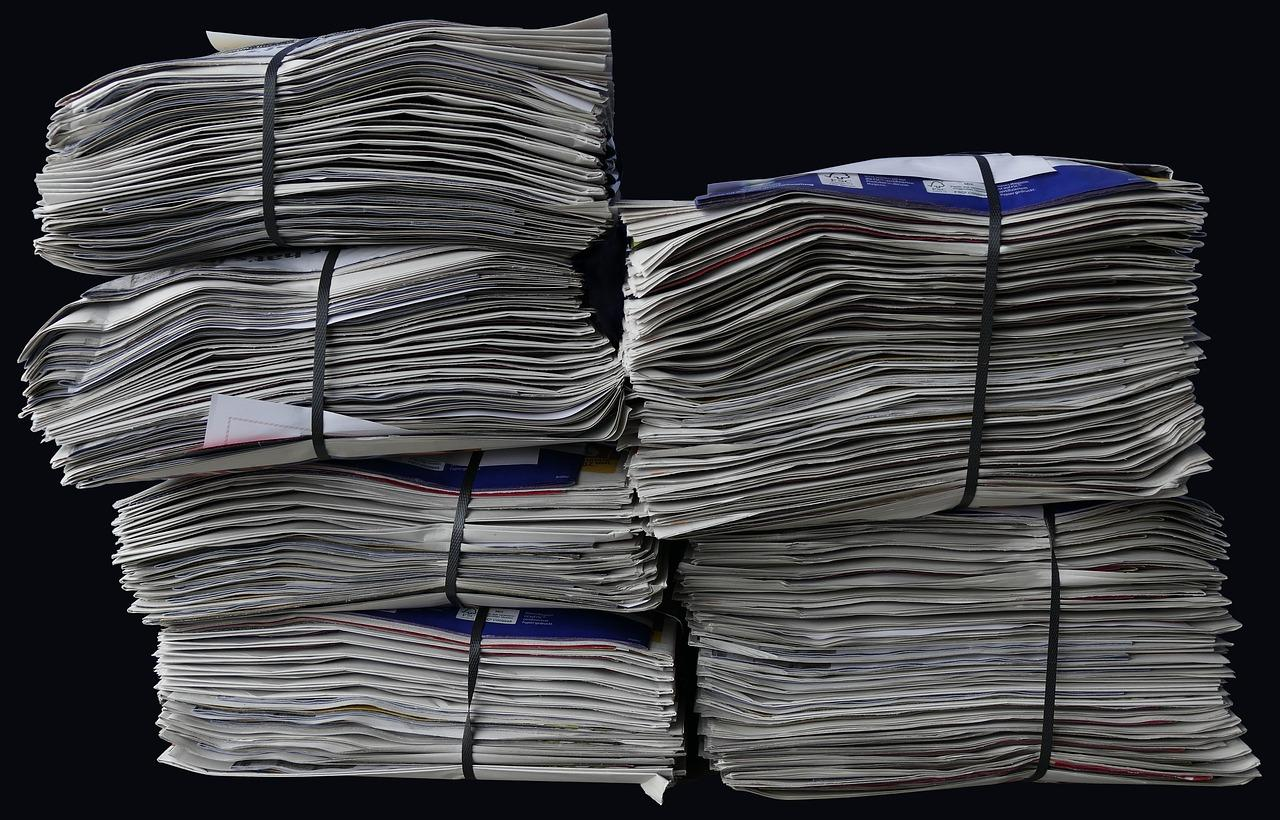Paper: (606, 190, 1206, 496), (110, 492, 682, 782), (674, 497, 1249, 782), (46, 244, 643, 449), (59, 67, 603, 245)
